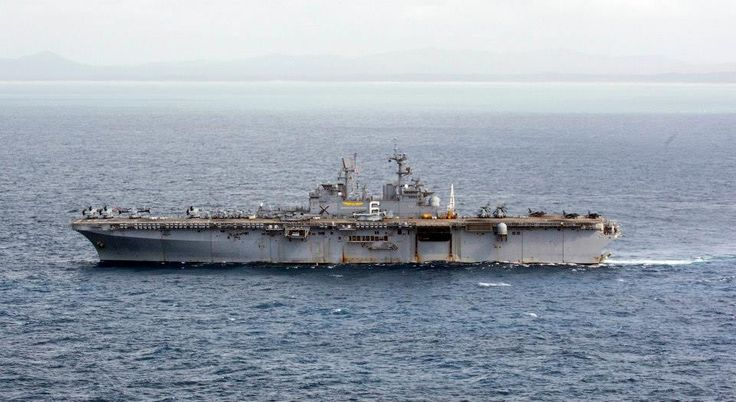rust: (340, 243, 379, 263), (423, 209, 461, 220), (409, 244, 423, 263)
